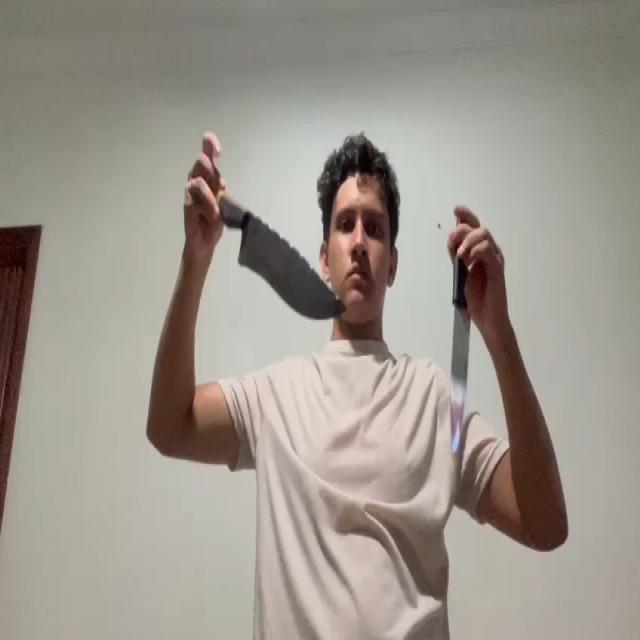knife: (240, 221, 346, 317), (449, 304, 472, 451)
